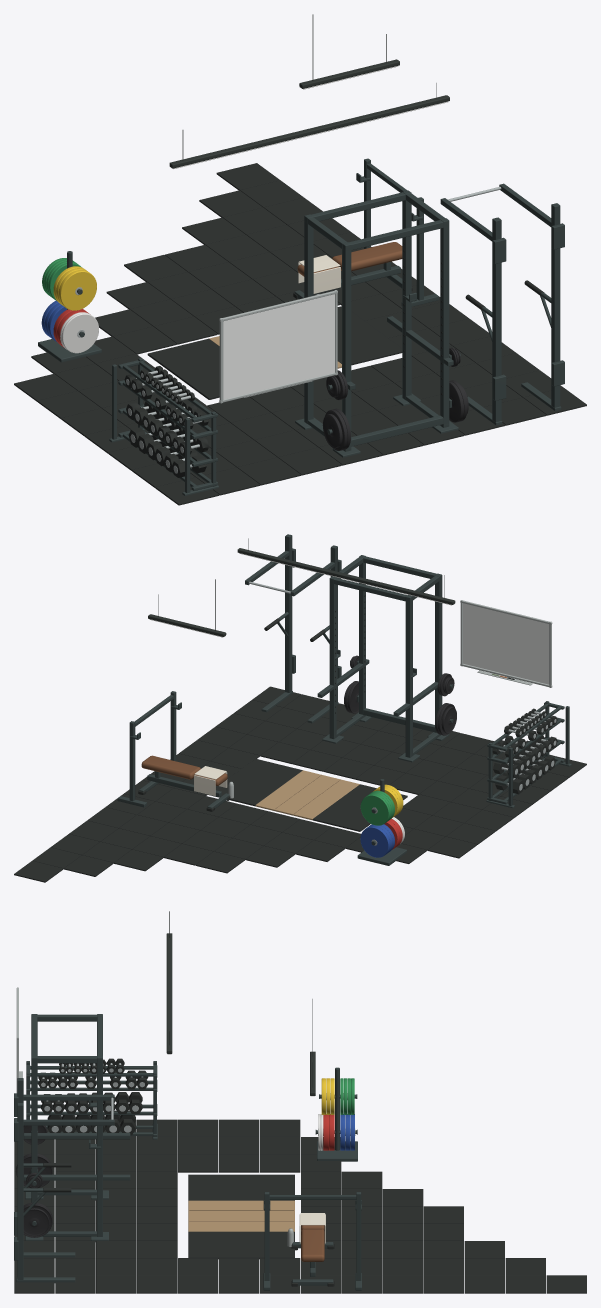
The model's file is room-gym.glb.
3 views of the same model, one above another, from view 1: azimuth 30°, elevation 25°; view 2: azimuth 150°, elevation 25°; view 3: azimuth 270°, elevation 25° (orthographic). The views are drawn at different scales.
Parts seen in each view (by area): view 1: gym__gym rubber, gym__powder coated gym steel, gym_whiteboard_face, gym__charcoal, gym__cast iron plate, gym__satin appliance stainless, gym__yellow bumper rubber, gym__barbell brushed steel, gym__white bumper rubber, gym_bench_backrest, gym__linen; view 2: gym__gym rubber, gym__powder coated gym steel, gym_whiteboard_face, gym__pale oak, gym__charcoal, gym__cast iron plate, gym__satin appliance stainless, gym__barbell brushed steel, gym__green bumper rubber, gym__blue bumper rubber, gym_bench_backrest, gym__linen; view 3: gym__gym rubber, gym__powder coated gym steel, gym__pale oak, gym__cast iron plate, gym__charcoal, gym__barbell brushed steel, gym_bench_backrest, gym__green bumper rubber, gym__blue bumper rubber, gym__yellow bumper rubber.
Boxes of the visible parts, <box> form: gym__gym rubber: <box>14,163,586,505</box>; gym__powder coated gym steel: <box>38,158,564,495</box>; gym_whiteboard_face: <box>223,294,334,399</box>; gym__charcoal: <box>169,14,449,168</box>; gym__cast iron plate: <box>323,347,468,450</box>; gym__satin appliance stainless: <box>219,290,337,403</box>; gym__yellow bumper rubber: <box>53,266,96,310</box>; gym__barbell brushed steel: <box>75,186,501,473</box>; gym__white bumper rubber: <box>60,312,98,353</box>; gym_bench_backrest: <box>332,242,402,271</box>; gym__linen: <box>298,255,340,293</box>; gym__gym rubber: <box>14,595,586,882</box>; gym__powder coated gym steel: <box>117,534,571,865</box>; gym_whiteboard_face: <box>463,603,549,684</box>; gym__pale oak: <box>255,770,359,820</box>; gym__charcoal: <box>148,538,514,679</box>; gym__cast iron plate: <box>344,655,456,735</box>; gym__satin appliance stainless: <box>228,600,552,798</box>; gym__barbell brushed steel: <box>249,581,556,845</box>; gym__green bumper rubber: <box>360,790,394,825</box>; gym__blue bumper rubber: <box>360,824,394,857</box>; gym_bench_backrest: <box>141,755,200,779</box>; gym__linen: <box>194,766,227,796</box>; gym__gym rubber: <box>14,1058,586,1293</box>; gym__powder coated gym steel: <box>14,1014,361,1290</box>; gym__pale oak: <box>188,1200,294,1231</box>; gym__cast iron plate: <box>16,1125,52,1237</box>; gym__charcoal: <box>166,911,315,1095</box>; gym__barbell brushed steel: <box>41,1063,355,1135</box>; gym_bench_backrest: <box>301,1229,324,1261</box>; gym__green bumper rubber: <box>340,1078,354,1114</box>; gym__blue bumper rubber: <box>340,1114,354,1150</box>; gym__yellow bumper rubber: <box>321,1078,334,1114</box>.
Bounding box in the file's own units: 4.99 × 3.4 × 7.
